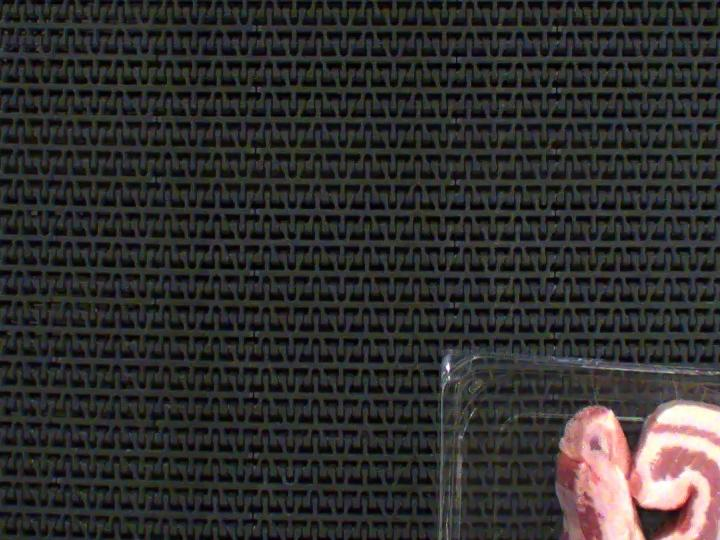packaging-error: (670, 379, 720, 408)
